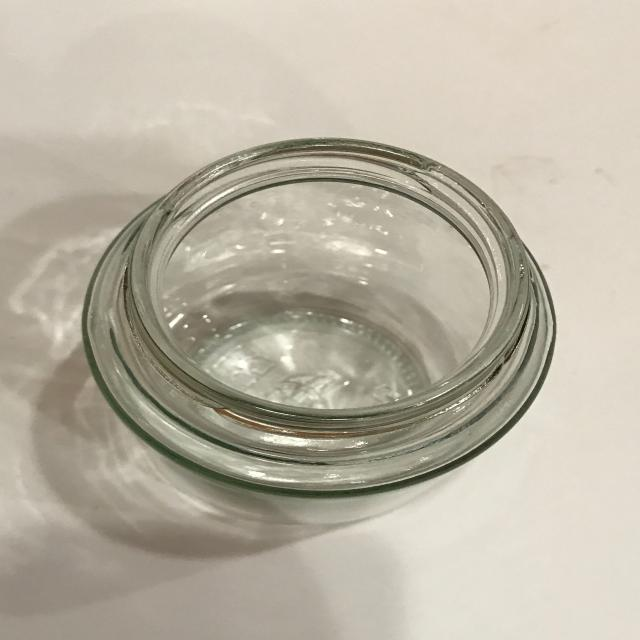glass: (80, 136, 557, 498)
